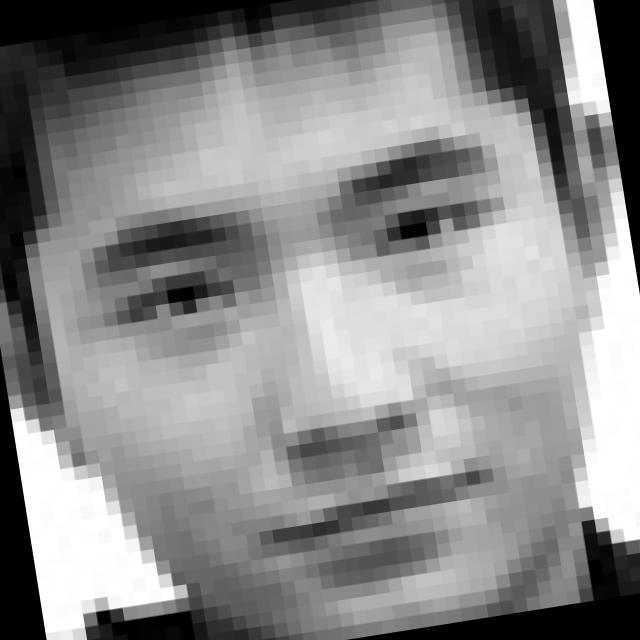neutral: (64, 117, 578, 622)
